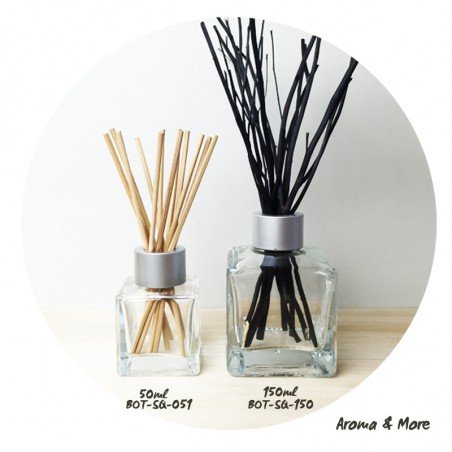glass_bottle: (219, 200, 343, 381), (101, 233, 212, 385)
